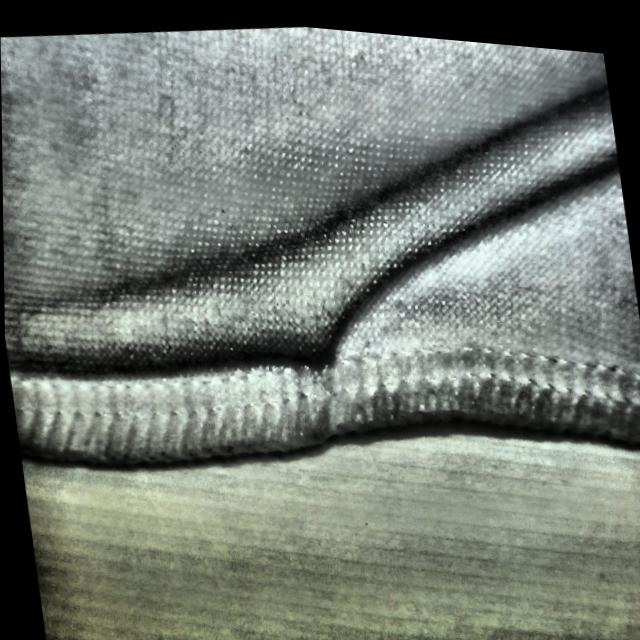seam: (119, 197, 428, 482)
